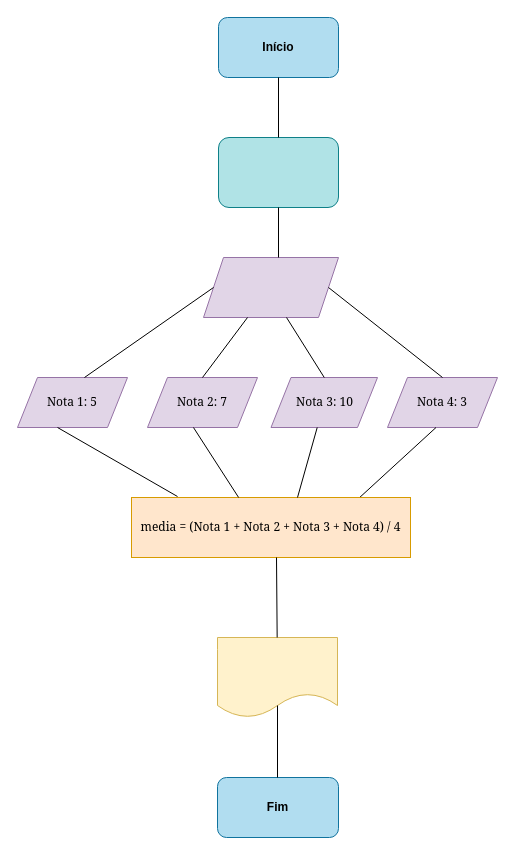
This 515x855 diagram has some shape labels left out. Here are the shapes that lost their labels. From the top down, the centre of each, then its label:
pixel 278 172: Média Aritmética
pixel 270 287: Notas
pixel 277 677: media = 6.25
